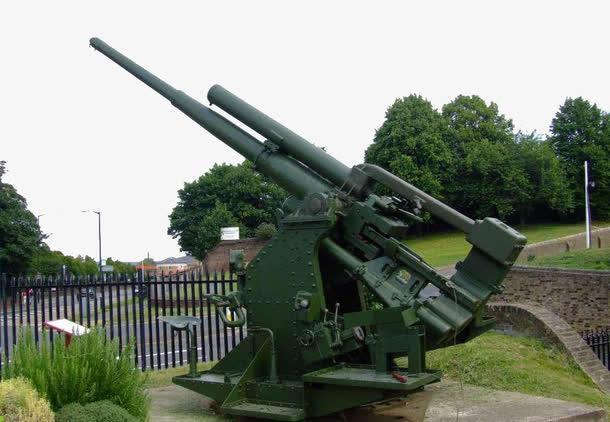MIL_SPG: (91, 38, 525, 420)
